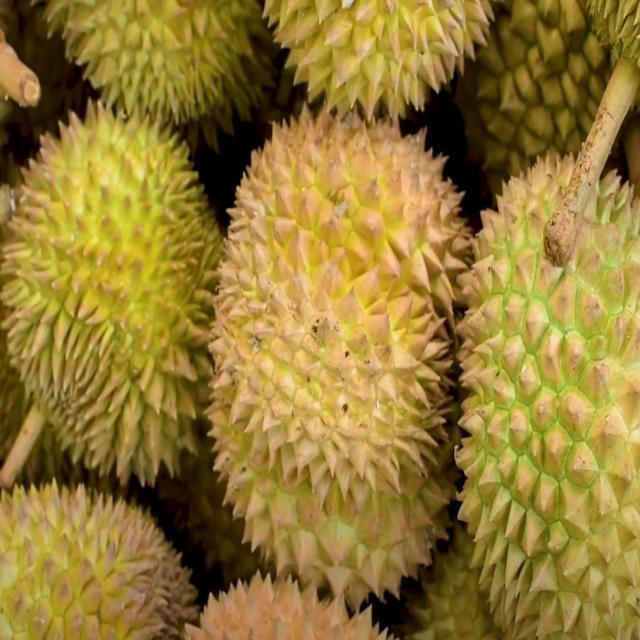mature: (207, 102, 475, 610)
